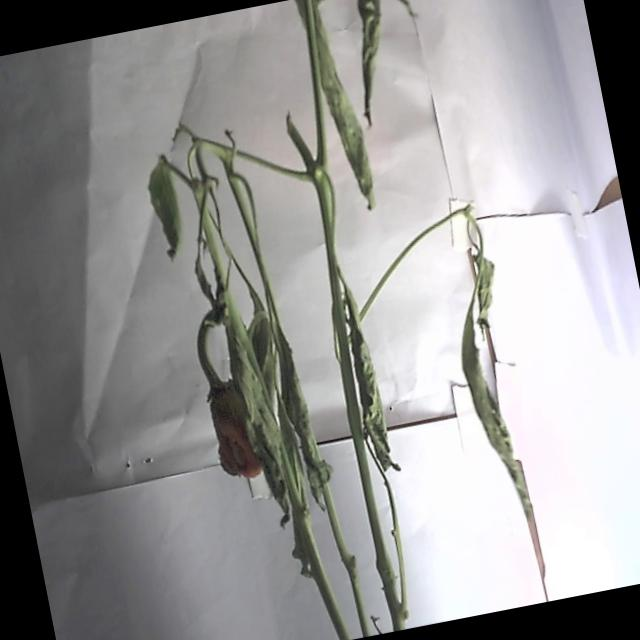Leaf: (296, 0, 377, 215), (223, 318, 300, 528), (336, 294, 396, 474), (339, 0, 405, 127)
